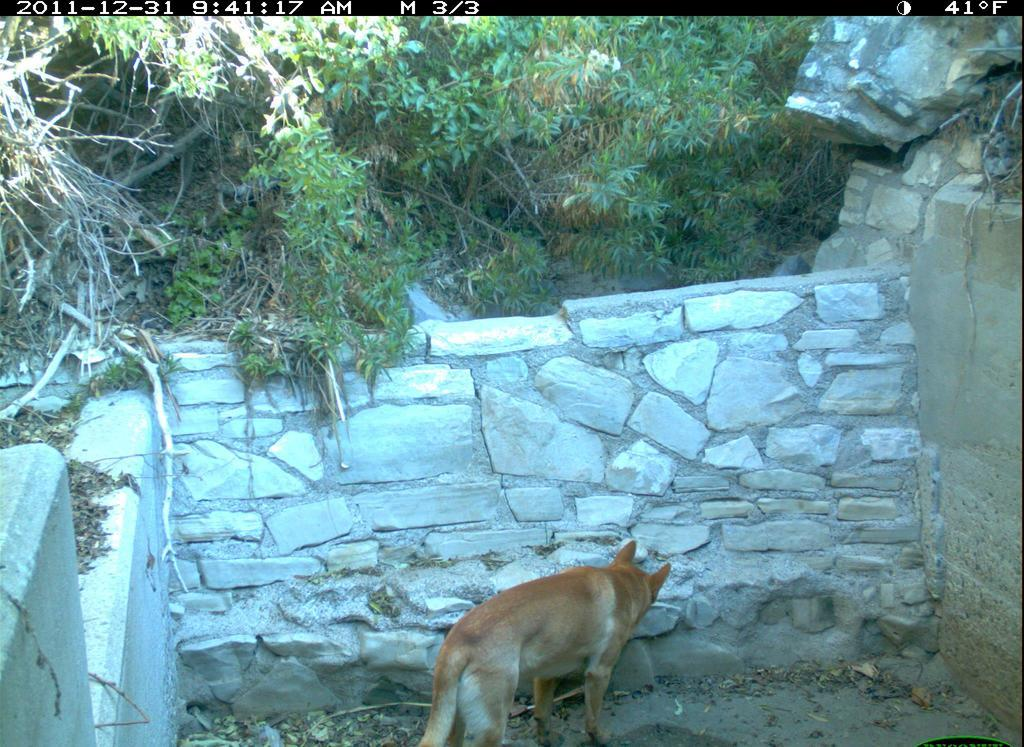dog: (410, 537, 690, 740)
